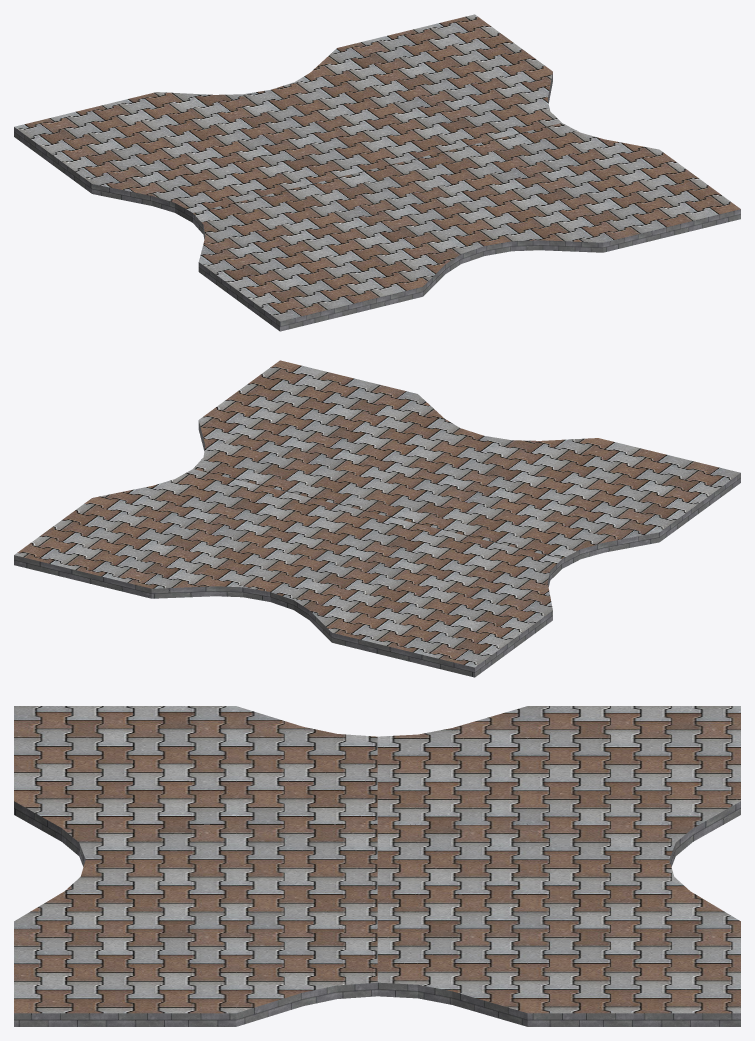
Rendered from center_point.fbx.
The picture shows the model from 3 angles, top to bottom: view 1: azimuth 30°, elevation 25°; view 2: azimuth 150°, elevation 25°; view 3: azimuth 270°, elevation 25°; orthographic projection. The views are drawn at different scales.
Visible parts, largest first — view 1: center_point; view 2: center_point; view 3: center_point.
Part boxes in pixels (<box>): center_point: <box>14,14,740,331</box>; center_point: <box>14,360,740,677</box>; center_point: <box>14,706,740,1026</box>.
Size of the model in its own units: 167 by 3.47 by 167.
